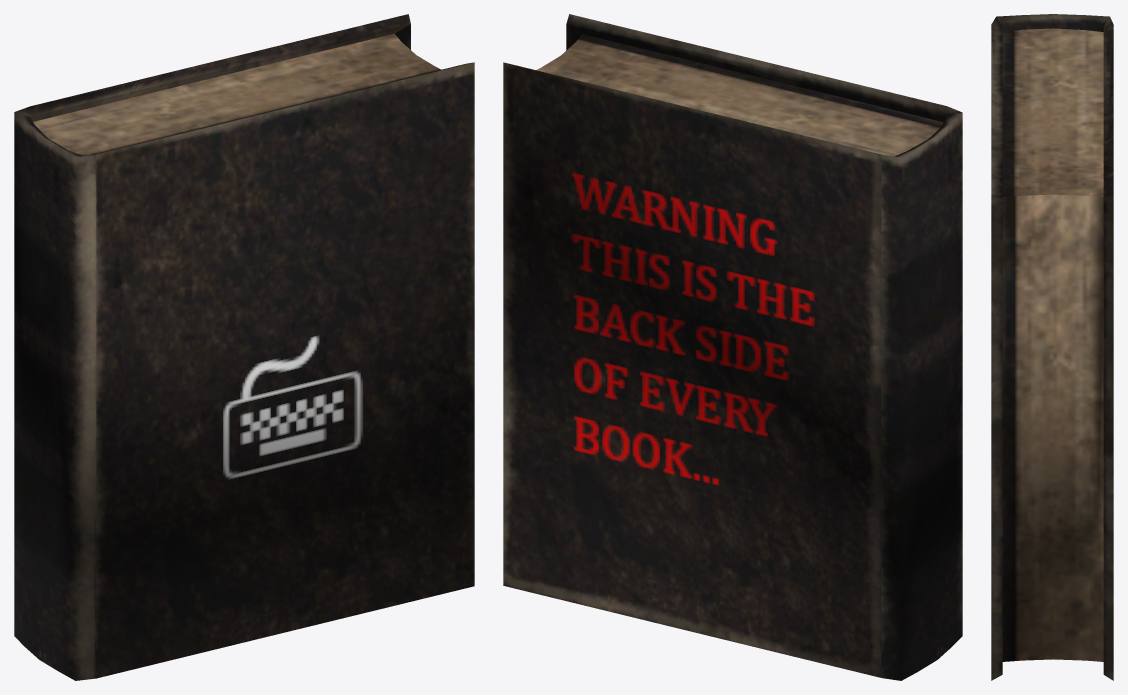
The model's file is SOTR_Biblio_E.dae.
The picture shows the model from 3 angles, left to right: view 1: azimuth 30°, elevation 25°; view 2: azimuth 150°, elevation 25°; view 3: azimuth 270°, elevation 25°; orthographic projection. The views are drawn at different scales.
Visible parts, largest first — view 1: pCube1; view 2: pCube1; view 3: pCube1.
Boxes of the visible parts, <box> form: pCube1: <box>14,14,474,680</box>; pCube1: <box>503,14,962,680</box>; pCube1: <box>991,14,1113,680</box>.
Bounding box in the file's own units: 0.2811 × 0.08 × 0.35.
1 material, 1 textured.
